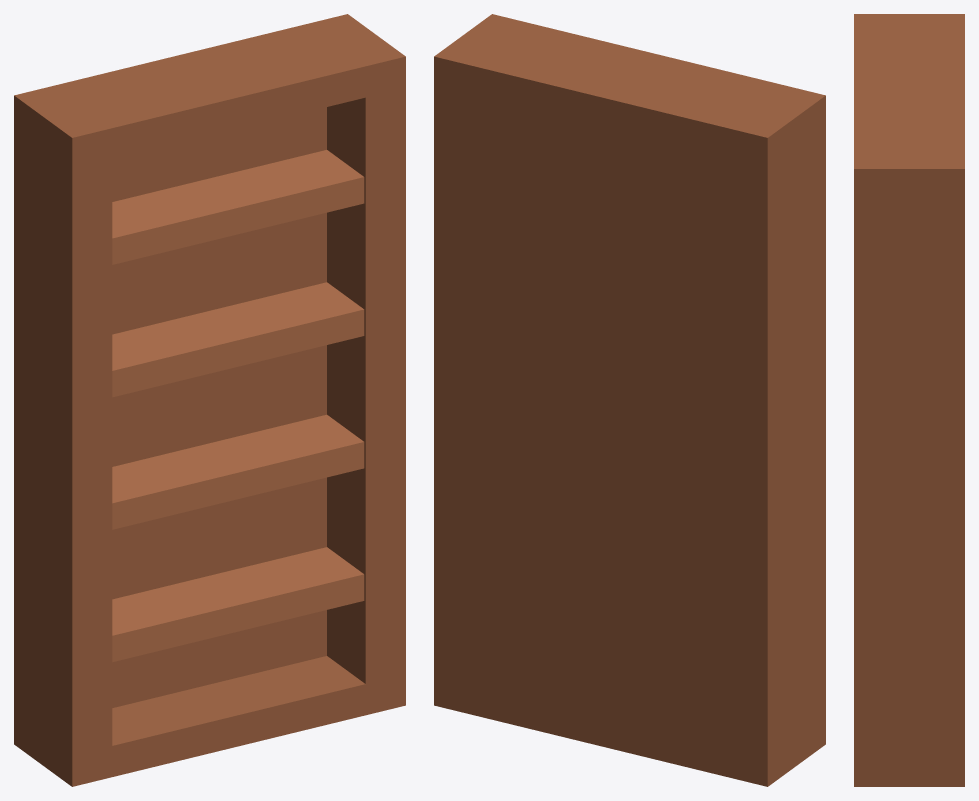
File: bookshelf_1.glb
The picture shows the model from 3 angles, left to right: view 1: azimuth 30°, elevation 25°; view 2: azimuth 150°, elevation 25°; view 3: azimuth 270°, elevation 25°; orthographic projection. The views are drawn at different scales.
Visible parts, largest first — view 1: bookshelf_1; view 2: bookshelf_1; view 3: bookshelf_1.
Boxes of the visible parts, x1=… form: bookshelf_1: x1=14, y1=14, x2=405, y2=786; bookshelf_1: x1=434, y1=14, x2=825, y2=786; bookshelf_1: x1=854, y1=14, x2=964, y2=786.
Bounding box in the file's own units: 0.4828 × 0.8972 × 0.1456.
1 material, 1 textured.
